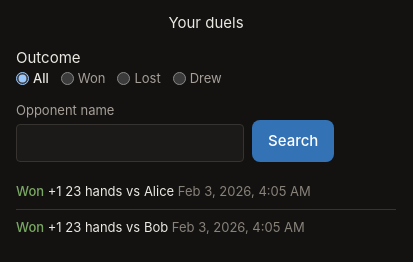
Test: the history screen › replaces the rows of the filter just left
Expected: the number of list items is 2, [16,182,311,198]; [16,209,396,246]
Expected: the list item "Won +1 23 hands vs Alice Feb 3, 2026, 4:05 AM" is shown, [16,182,311,198]
Click the radio button labelled "Won" at (67, 79), box [61,72,74,85]
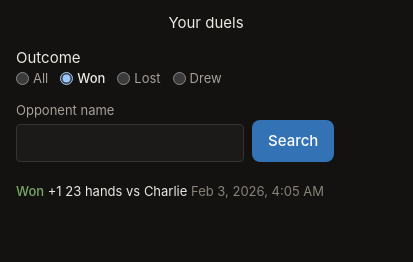
Expected: the number of list items is 1, [16,182,324,198]
Expected: the list item shows "Charlie", [144,182,187,198]
